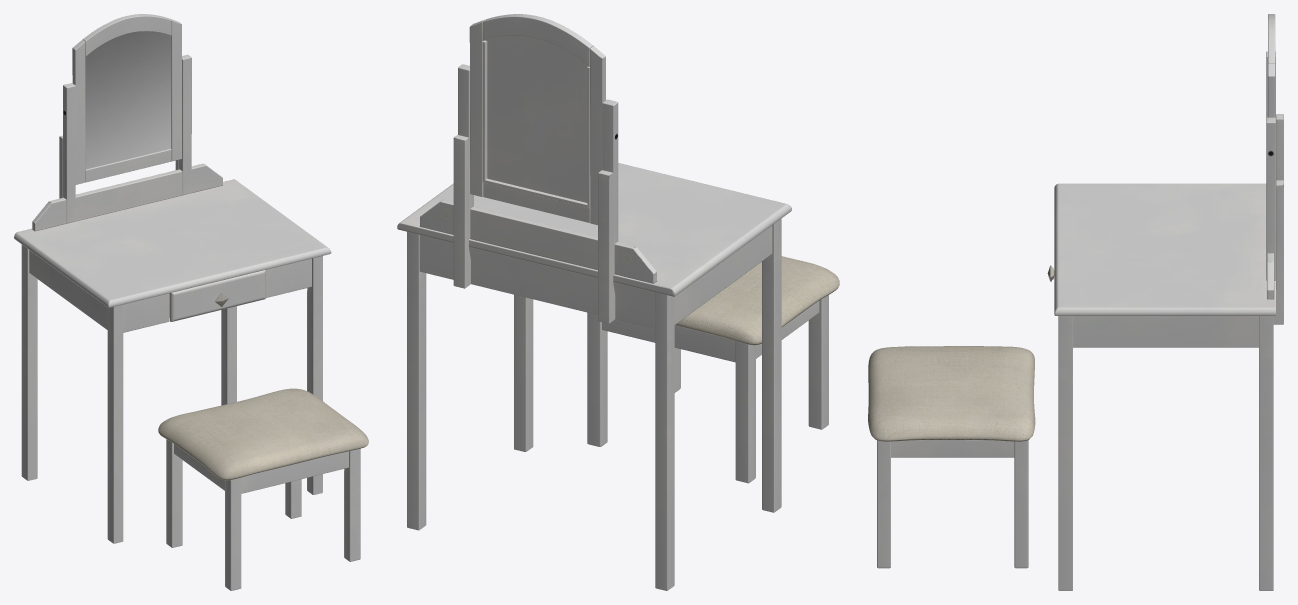
The model's file is abo-B076HF56ZC.glb.
3 views of the same model, side by side, from view 1: azimuth 30°, elevation 25°; view 2: azimuth 150°, elevation 25°; view 3: azimuth 270°, elevation 25° (orthographic). The views are drawn at different scales.
Bounding box in the file's own units: 0.876 × 1.63 × 1.21.
Materials: 1 (1 with a texture image).
